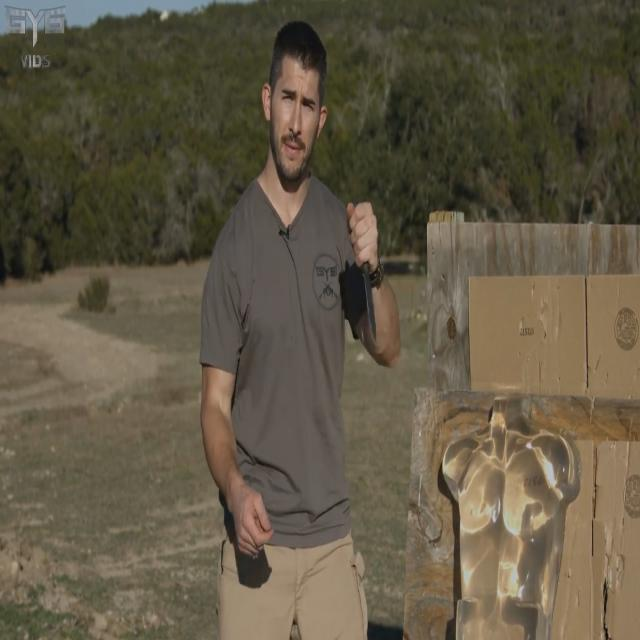knife: (359, 264, 381, 347)
